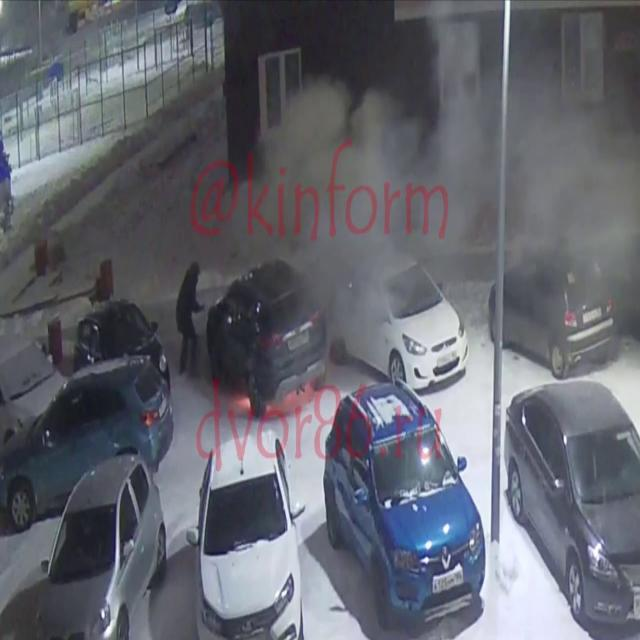Smoke: (218, 0, 640, 364)
